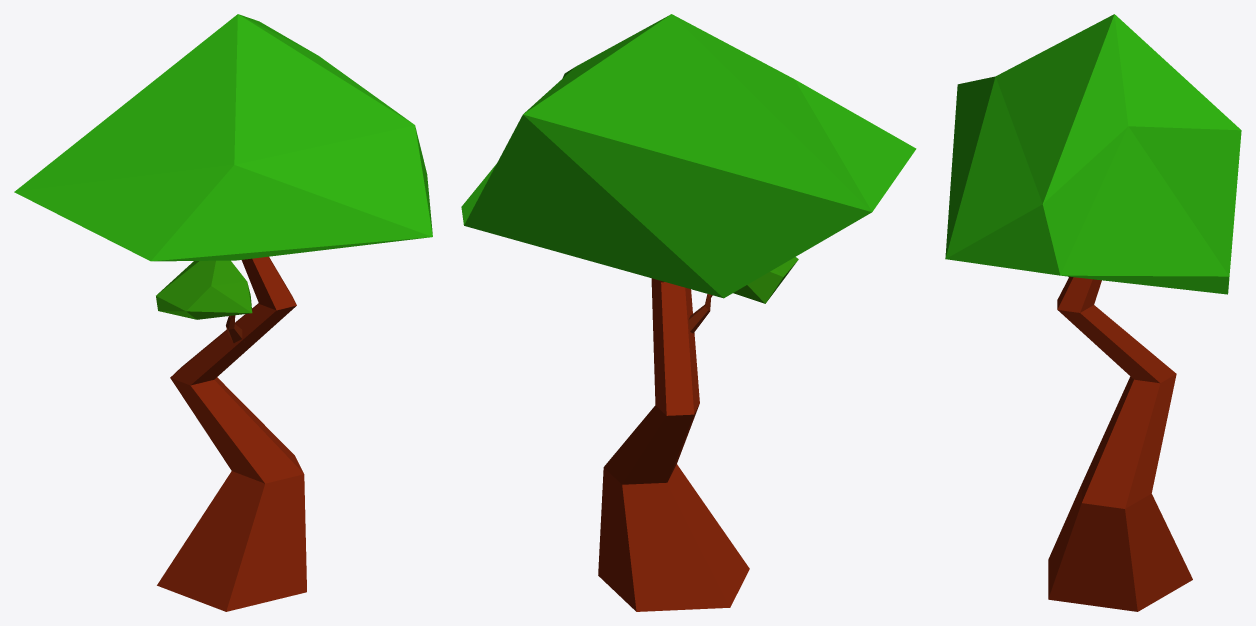
File: low_poly_tree_3.obj
3 renders of one model, left to right at view 1: azimuth 30°, elevation 25°; view 2: azimuth 150°, elevation 25°; view 3: azimuth 270°, elevation 25°, orthographic.
Visible parts, largest first — view 1: Icosphere, Cylinder, Icosphere.001; view 2: Icosphere, Cylinder, Icosphere.001; view 3: Icosphere, Cylinder.
Boxes of the visible parts, left/top/right/bottom form: Icosphere: left=14, top=14, right=432, bottom=261; Cylinder: left=157, top=256, right=306, bottom=611; Icosphere.001: left=156, top=260, right=252, bottom=319; Icosphere: left=461, top=14, right=916, bottom=298; Cylinder: left=598, top=278, right=749, bottom=611; Icosphere.001: left=733, top=257, right=798, bottom=303; Icosphere: left=945, top=14, right=1241, bottom=294; Cylinder: left=1048, top=276, right=1192, bottom=611.
Size of the model in its own units: 7.99 by 11.51 by 5.44.
